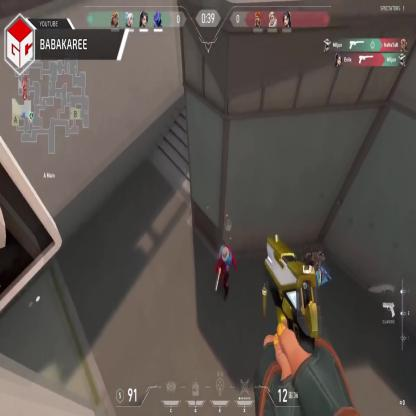enemy: (214, 243, 238, 302)
enemy_head: (221, 247, 228, 260)
